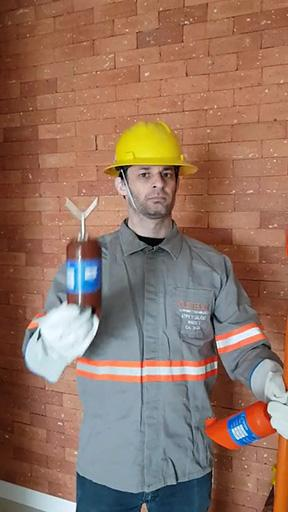Detector_Tensao_Contato: (63, 196, 102, 323)
